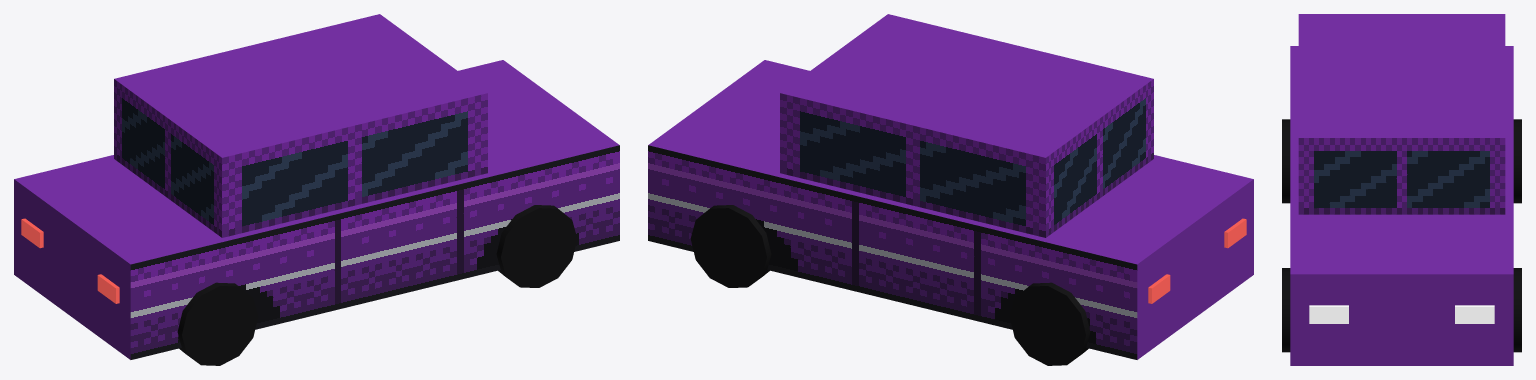
The model's file is Auto_5.glb.
3 renders of one model, left to right at view 1: azimuth 30°, elevation 25°; view 2: azimuth 150°, elevation 25°; view 3: azimuth 270°, elevation 25°, orthographic. The views are drawn at different scales.
Visible parts, largest first — view 1: Auto_5; view 2: Auto_5; view 3: Auto_5.
Boxes of the visible parts, x1=… form: Auto_5: x1=14, y1=14, x2=619, y2=365; Auto_5: x1=648, y1=14, x2=1253, y2=365; Auto_5: x1=1282, y1=14, x2=1521, y2=365.
Size of the model in its own units: 4.67 by 1.79 by 2.04.
Materials: 6 (2 with a texture image).
